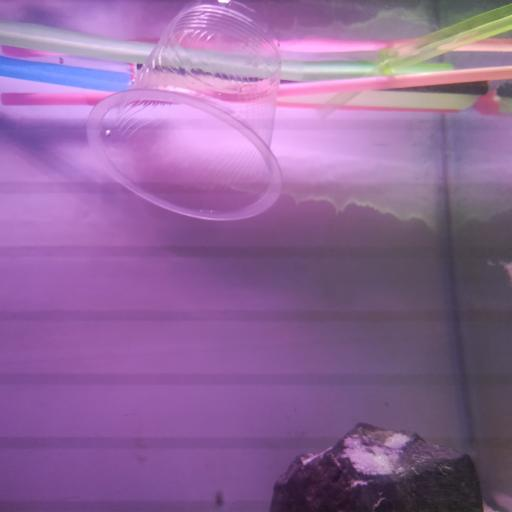plastic_cup: (80, 4, 287, 226)
plastic_straw: (0, 16, 453, 78), (165, 32, 512, 61), (191, 67, 512, 98), (382, 4, 512, 75), (0, 56, 129, 94), (271, 91, 484, 110), (0, 53, 130, 84), (0, 91, 108, 111)
